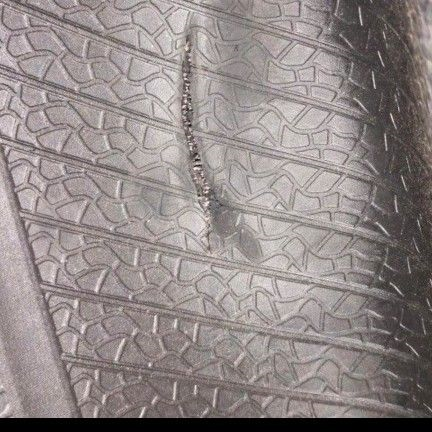CBU: (181, 24, 246, 242)
